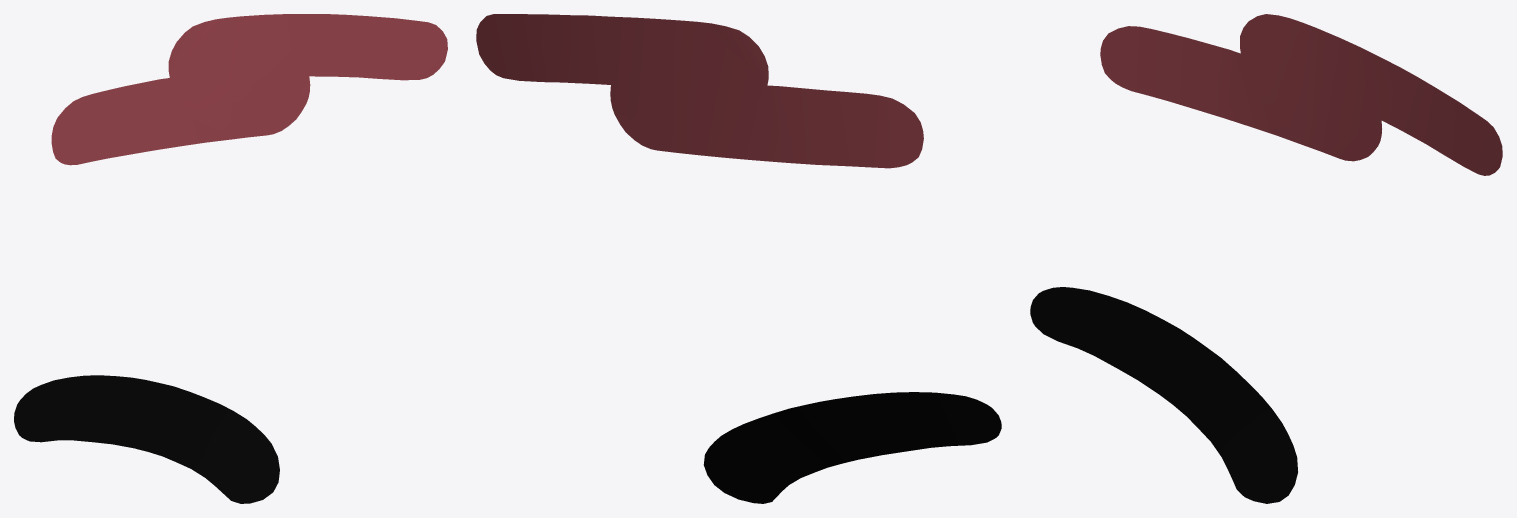
Rendered from 12-Bored-mouth.glb.
3 renders of one model, left to right at view 1: azimuth 30°, elevation 25°; view 2: azimuth 150°, elevation 25°; view 3: azimuth 330°, elevation 25°, orthographic. The views are drawn at different scales.
Visible parts, largest first — view 1: 12-Bored-mouth; view 2: 12-Bored-mouth; view 3: 12-Bored-mouth.
Boxes of the visible parts, x1,y1,x2,y2 form: 12-Bored-mouth: (14, 14, 447, 503); 12-Bored-mouth: (476, 14, 1001, 503); 12-Bored-mouth: (1030, 14, 1502, 503).
Size of the model in its own units: 0.2601 by 0.2511 by 0.0358.
Materials: 2 (2 with a texture image).
